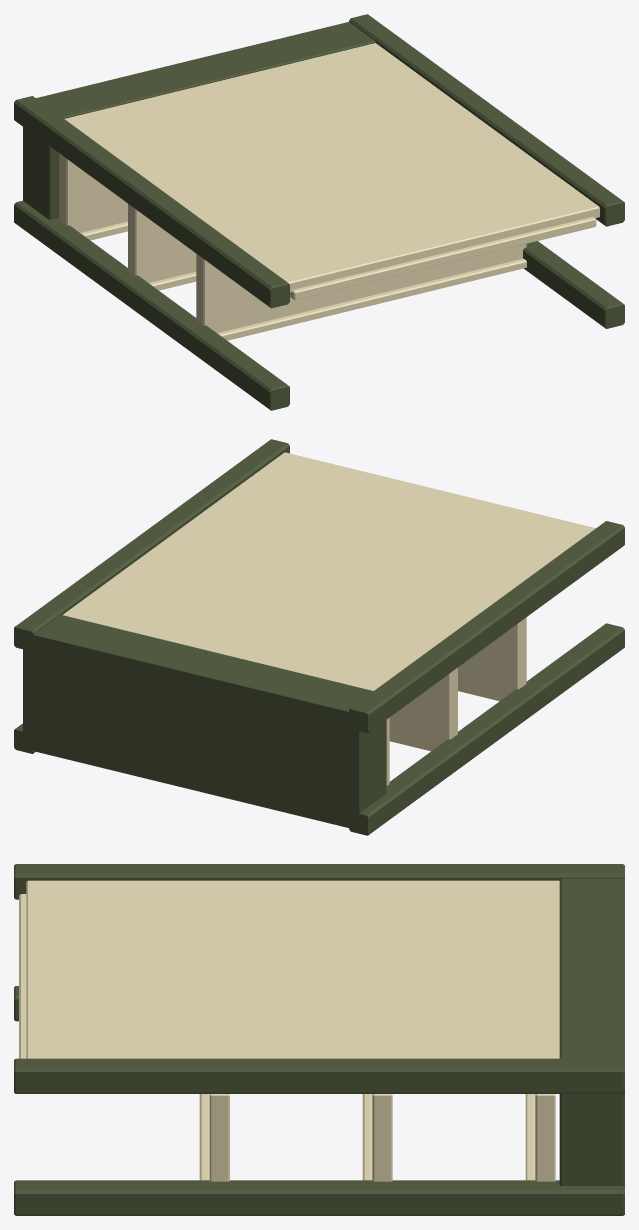
Rendered from fixture_11_pet_supplies_rack.glb.
3 views of the same model, one above another, from view 1: azimuth 30°, elevation 25°; view 2: azimuth 150°, elevation 25°; view 3: azimuth 270°, elevation 25° (orthographic). The views are drawn at different scales.
Parts seen in each view (by area): view 1: fixture_11_pet_supplies_rack; view 2: fixture_11_pet_supplies_rack; view 3: fixture_11_pet_supplies_rack.
Boxes of the visible parts, left/top/right/bottom form: fixture_11_pet_supplies_rack: left=14, top=14, right=624, bottom=410; fixture_11_pet_supplies_rack: left=14, top=439, right=624, bottom=835; fixture_11_pet_supplies_rack: left=14, top=864, right=624, bottom=1215.
Size of what is drawn, in the model's own units: 1.2 by 0.4 by 1.5.
